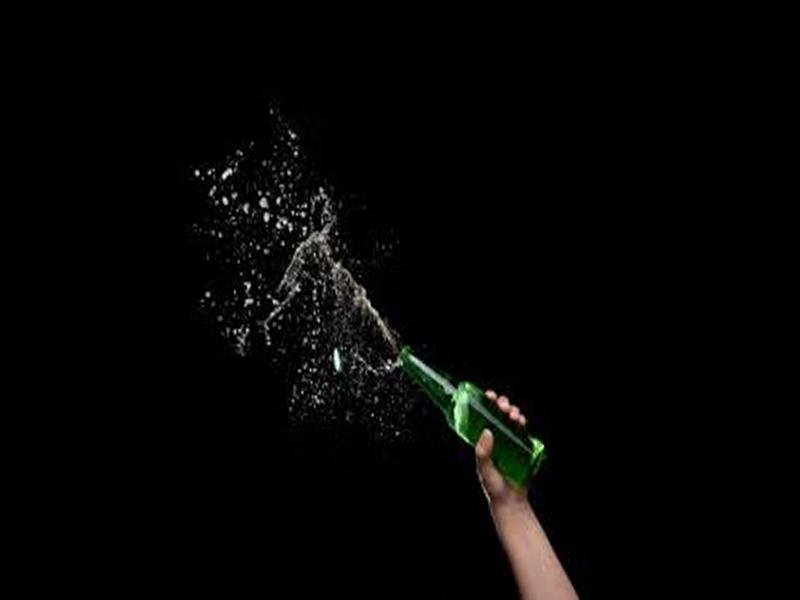Beer: (396, 339, 551, 500)
